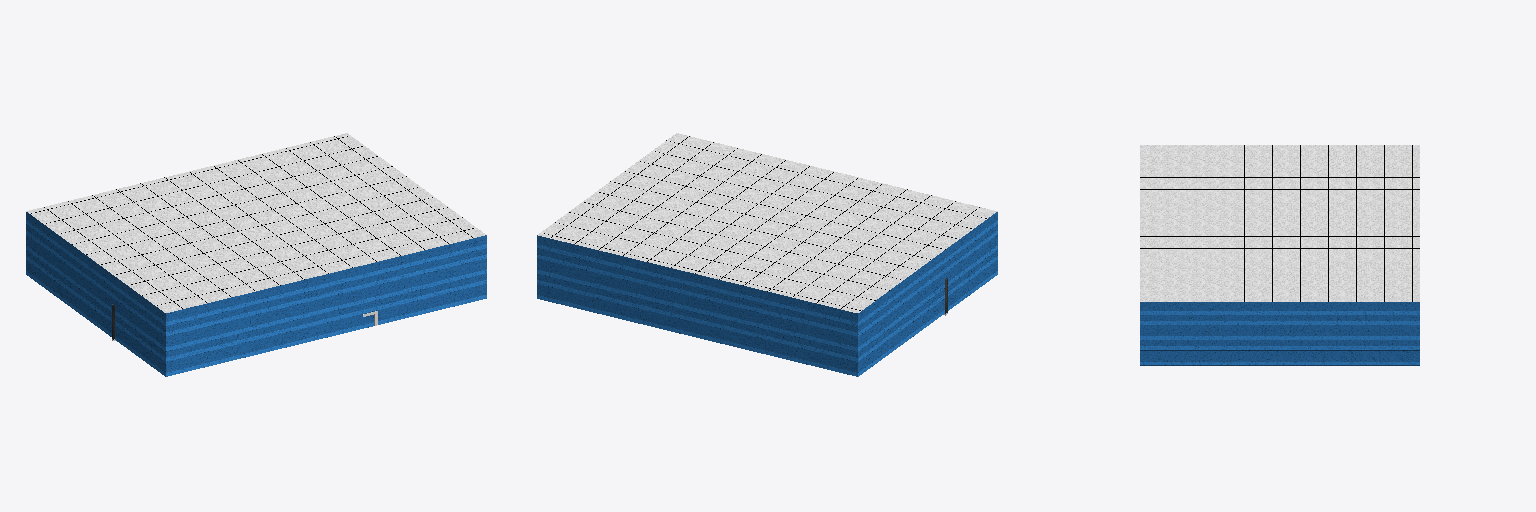
3 renders of one model, left to right at view 1: azimuth 30°, elevation 25°; view 2: azimuth 150°, elevation 25°; view 3: azimuth 270°, elevation 25°, orthographic.
Visible parts, largest first — view 1: Plane; view 2: Plane; view 3: Plane.
Boxes of the visible parts, x1,y1,x2,y2 form: Plane: [26, 133, 486, 376]; Plane: [537, 133, 997, 376]; Plane: [1140, 145, 1419, 365].
Bounding box in the file's own units: 21.31 × 4.12 × 16.02.
Materials: 8 (7 with a texture image).